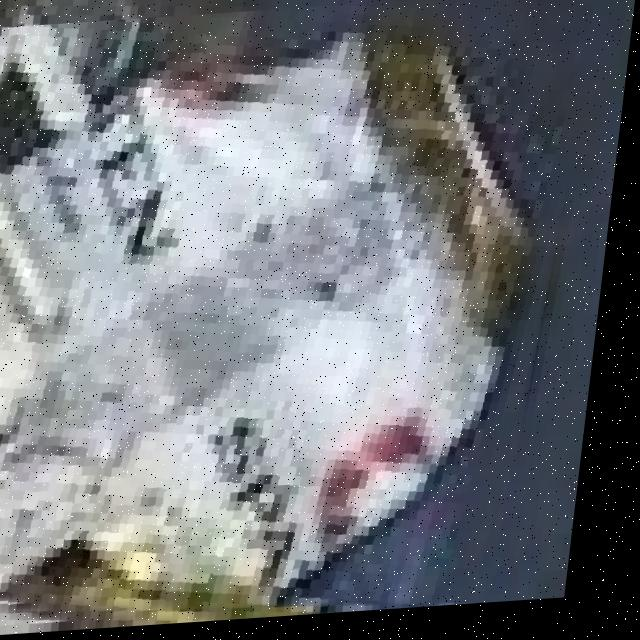can: (0, 3, 574, 615)
